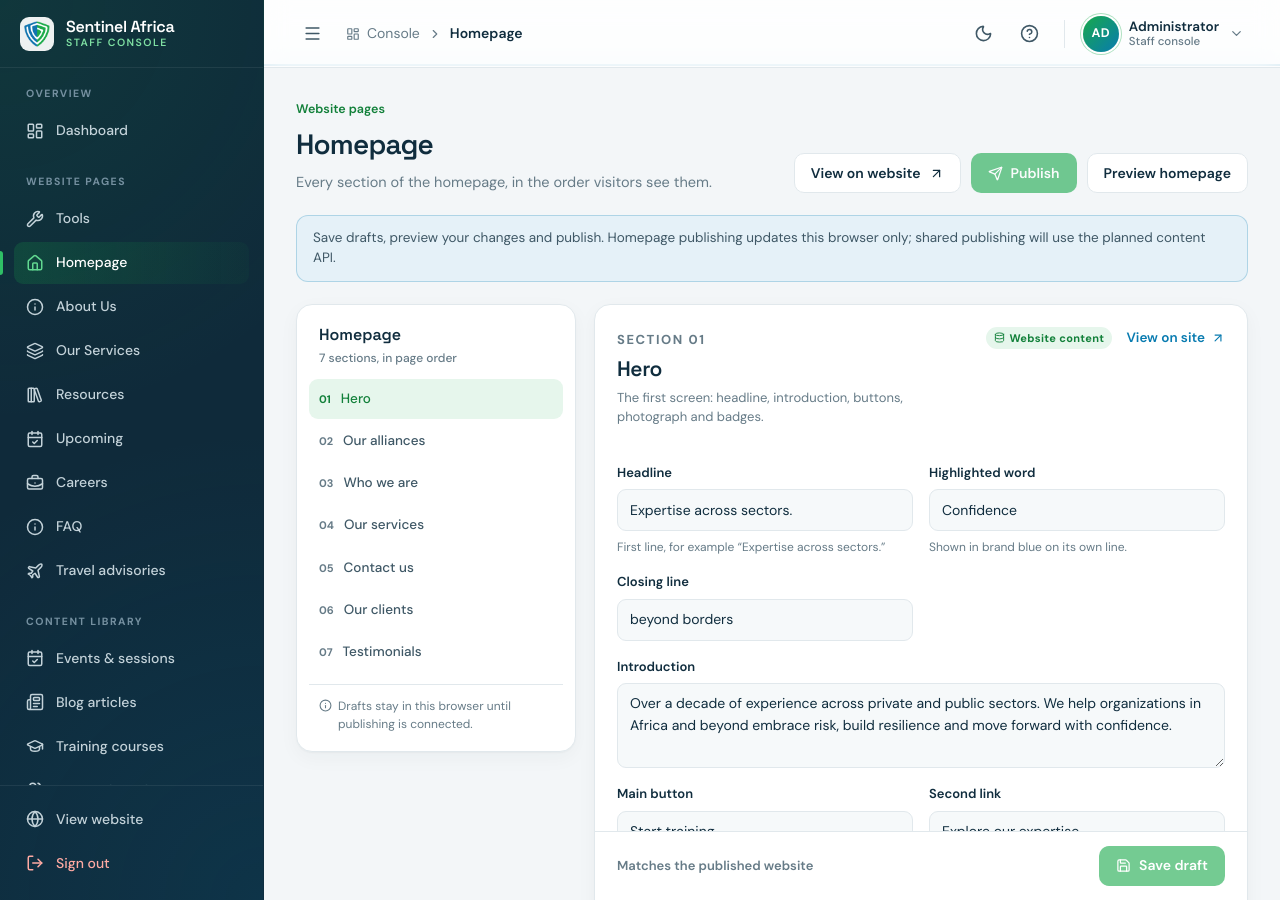
Content management in the staff console › saves a draft, marks the section as edited and can discard it
The image size is (1280, 900).
Expected: the button "Save draft" is disabled, [1099,846,1225,886]
Replace the text in the field labelled "Headline" with "Risk, managed across Africa." at {"x": 765, "y": 510}, box [617,489,913,531]
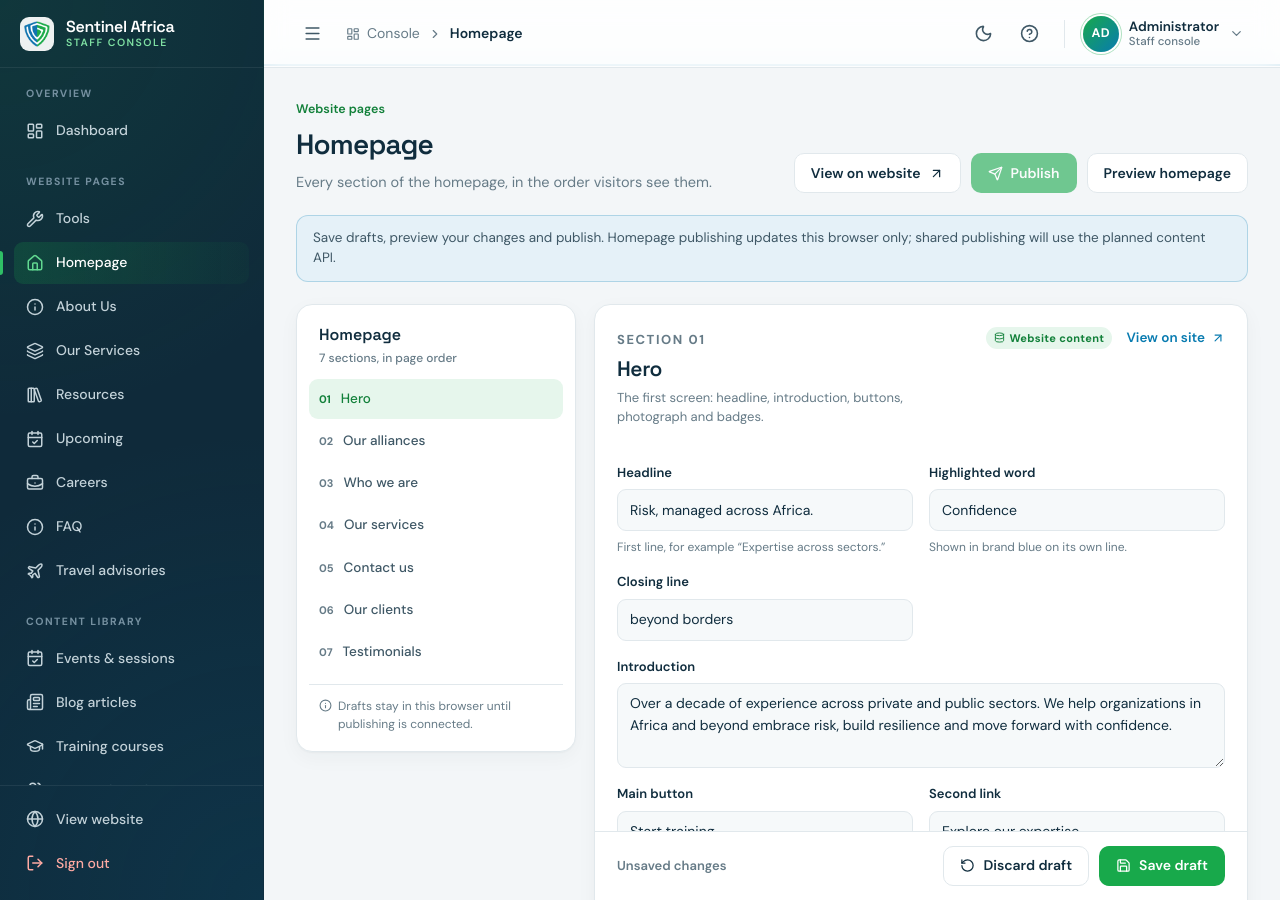
Now the text "Unsaved changes" is shown, box [617,856,727,876]
Click the button "Save draft".
click(1162, 866)  # box [1099,846,1225,886]
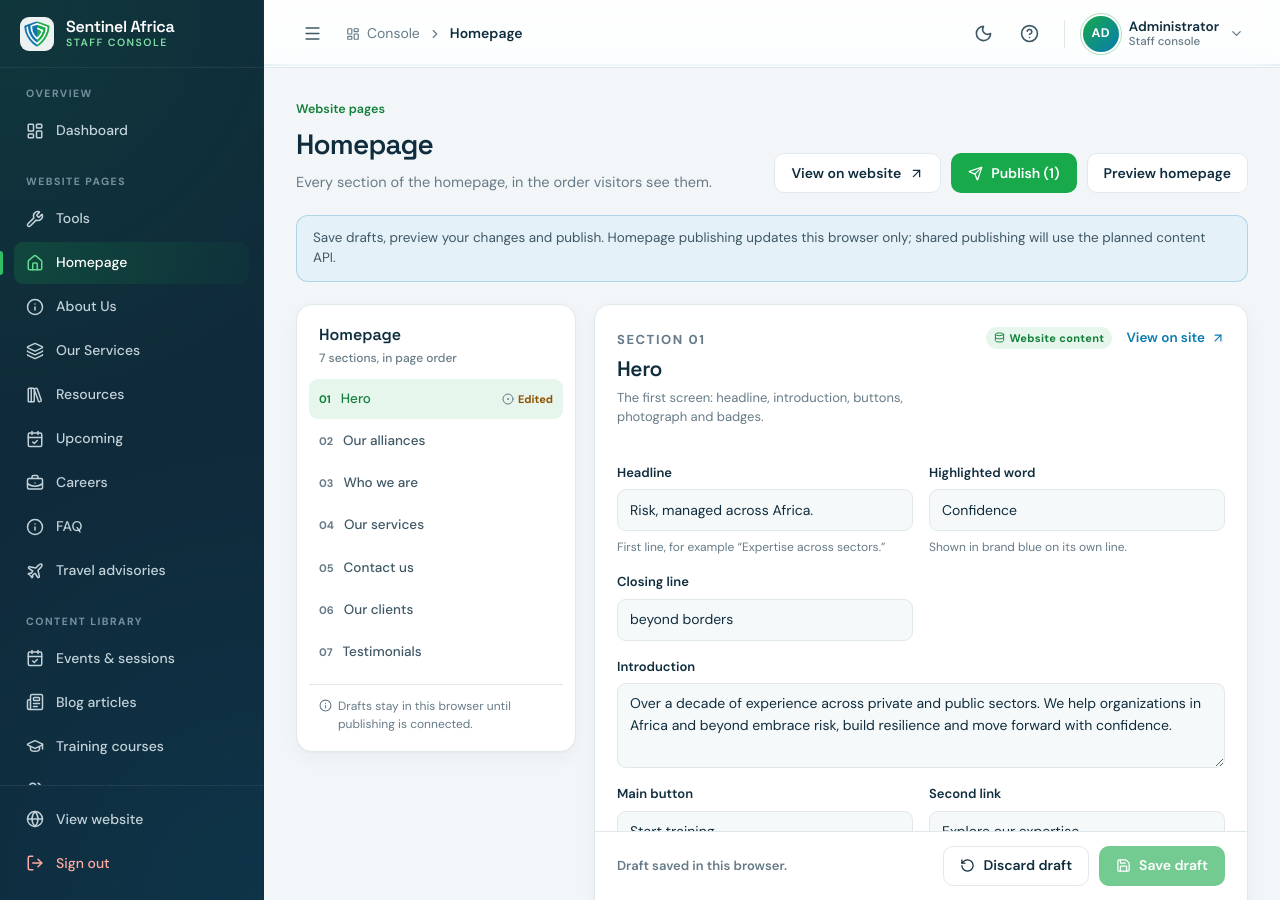
Now the text "Draft saved in this browser." is shown, box [617,856,787,876]
Now the text "Edited" is shown, box [502,391,553,407]
Now the button "Publish (1)" is enabled, box [951,153,1077,193]
Click the button "Discard draft".
click(1016, 866)  # box [943,846,1089,886]
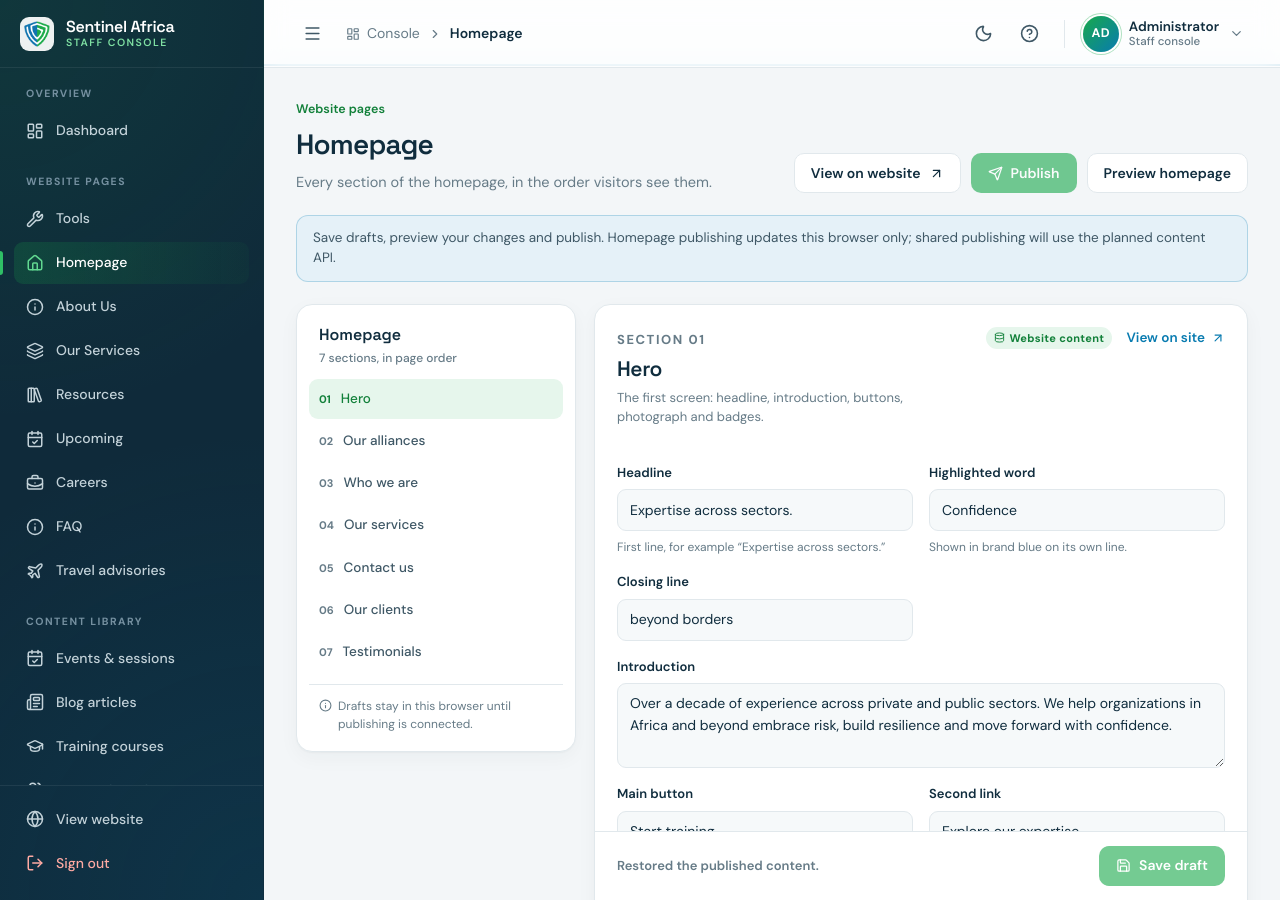
Now the field labelled "Headline" holds "Expertise across sectors.", box [617,489,913,531]
Now the text "Edited" is gone
